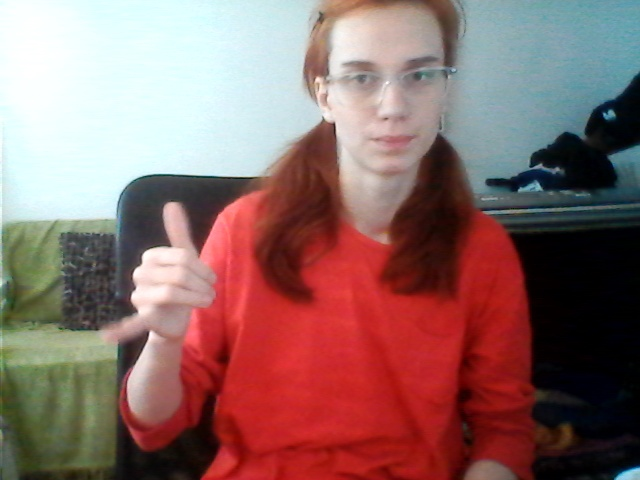ano: (88, 196, 237, 353)
